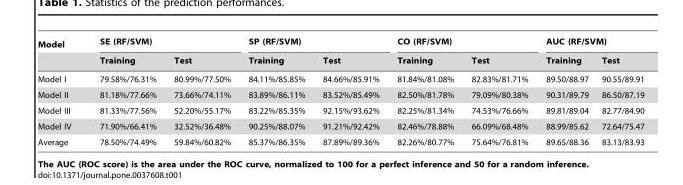table: (37, 36, 643, 146)
table column: (84, 36, 164, 146), (238, 36, 313, 146), (461, 36, 536, 146), (164, 36, 238, 146), (313, 36, 387, 146), (387, 36, 461, 146), (536, 36, 594, 146), (594, 36, 643, 146), (37, 36, 84, 146)
table column header: (37, 36, 643, 69)
table row: (37, 52, 643, 69), (37, 69, 643, 86), (37, 36, 643, 52), (37, 86, 643, 102), (37, 102, 643, 118), (37, 118, 643, 134), (37, 134, 643, 146)
table spanning cell: (84, 36, 238, 52), (238, 36, 387, 52), (387, 36, 536, 52), (536, 36, 643, 52), (37, 36, 84, 69)
